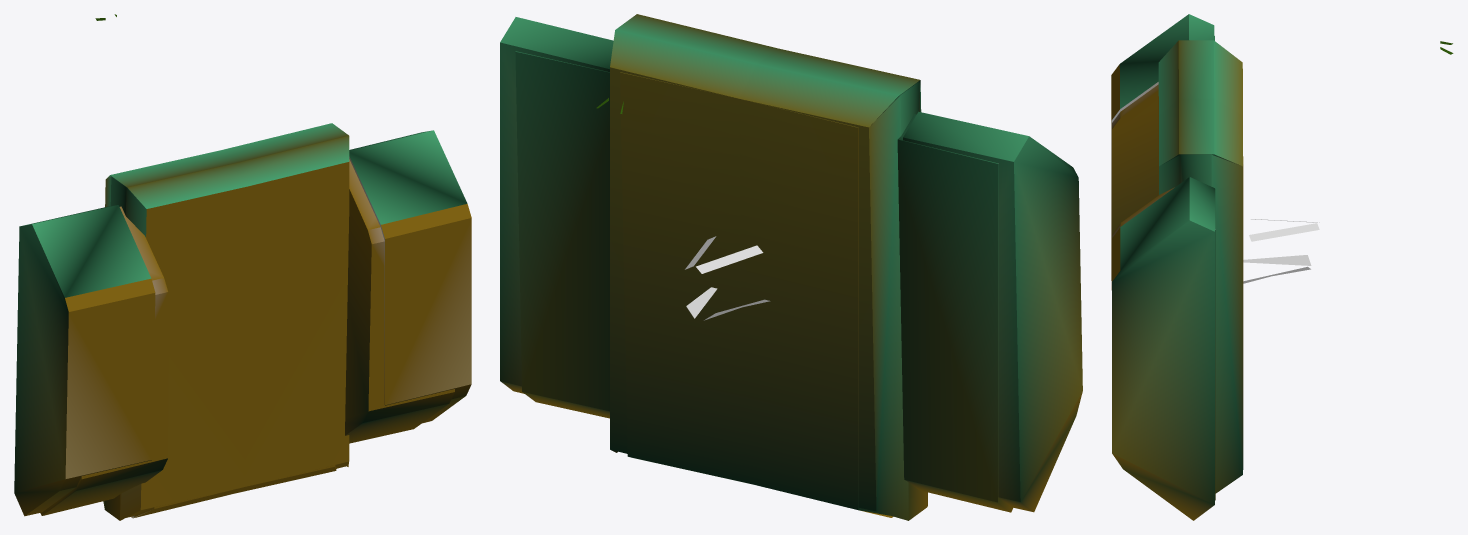
Rendered from tower-tanqueBase.fbx.
3 renders of one model, left to right at view 1: azimuth 30°, elevation 25°; view 2: azimuth 150°, elevation 25°; view 3: azimuth 270°, elevation 25°, orthographic. The views are drawn at different scales.
Parts seen in each view (by area): view 1: torre-tanque; view 2: torre-tanque; view 3: torre-tanque.
Boxes of the visible parts, <box> form: torre-tanque: <box>14,14,471,520</box>; torre-tanque: <box>500,14,1082,520</box>; torre-tanque: <box>1111,14,1453,520</box>.
Bounding box in the file's own units: 940 × 850 × 664.
